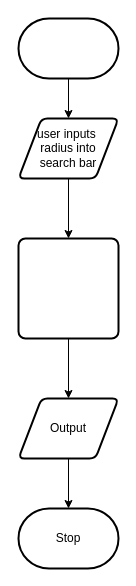
Image size: 136x586. Some labels were removed from this diagram. Each missing label, with the centre of its shape:
Start: the point at 68,48
volume = ((4 * Math.PI * radius_cubed) / 3).toFixed(2): the point at 68,288
